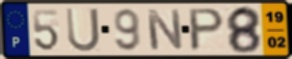5: (31, 8, 62, 52)
8: (224, 4, 264, 55)
9: (112, 7, 142, 53)
N: (144, 8, 185, 52)
P: (188, 6, 227, 53)
U: (64, 6, 102, 53)
